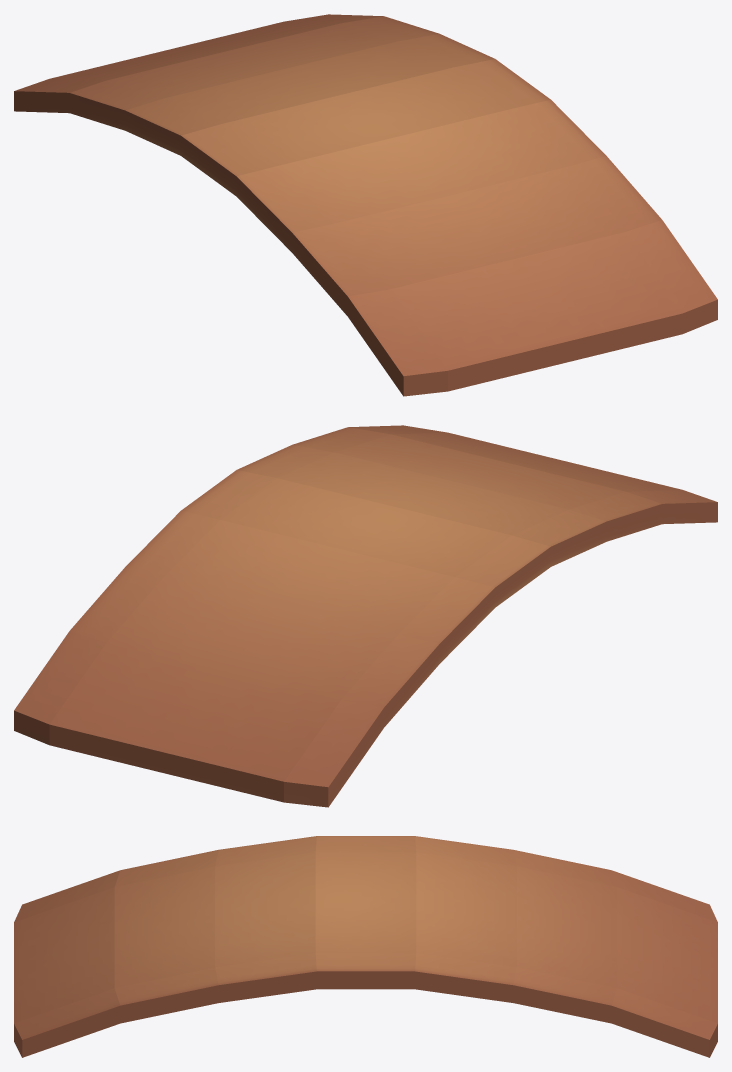
The picture shows the model from 3 angles, top to bottom: view 1: azimuth 30°, elevation 25°; view 2: azimuth 150°, elevation 25°; view 3: azimuth 270°, elevation 25°; orthographic projection. The views are drawn at different scales.
Parts seen in each view (by area): view 1: Bridge.000; view 2: Bridge.000; view 3: Bridge.000.
Part boxes in pixels (x1,y1,x2,y2): Bridge.000: [14, 14, 717, 396]; Bridge.000: [14, 425, 717, 807]; Bridge.000: [14, 836, 717, 1057].
Size of the model in its own units: 4.11 by 1.25 by 9.03.
1 material, 1 textured.
